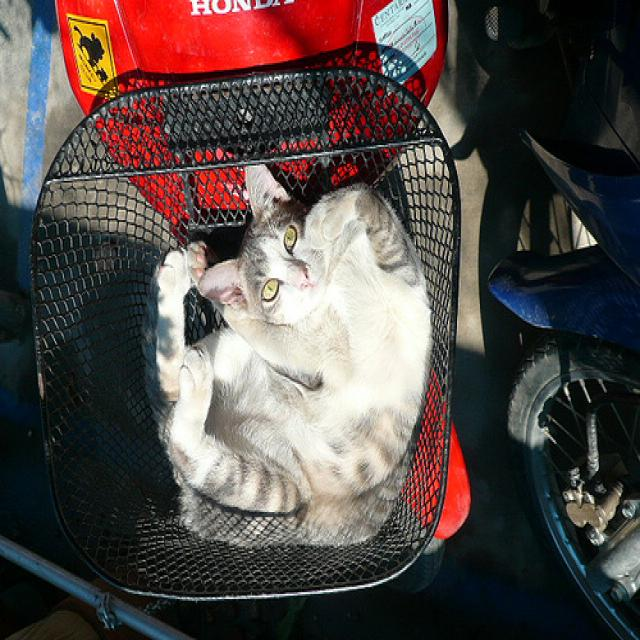motor: (447, 0, 637, 434), (489, 124, 640, 630)
